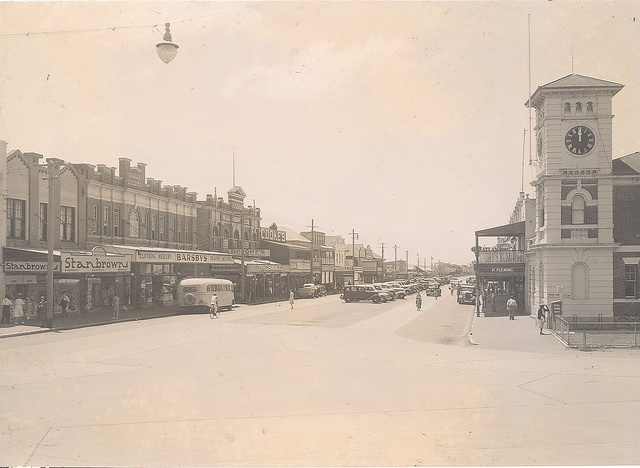non-vehicle: (210, 303, 220, 318), (416, 297, 422, 311)
